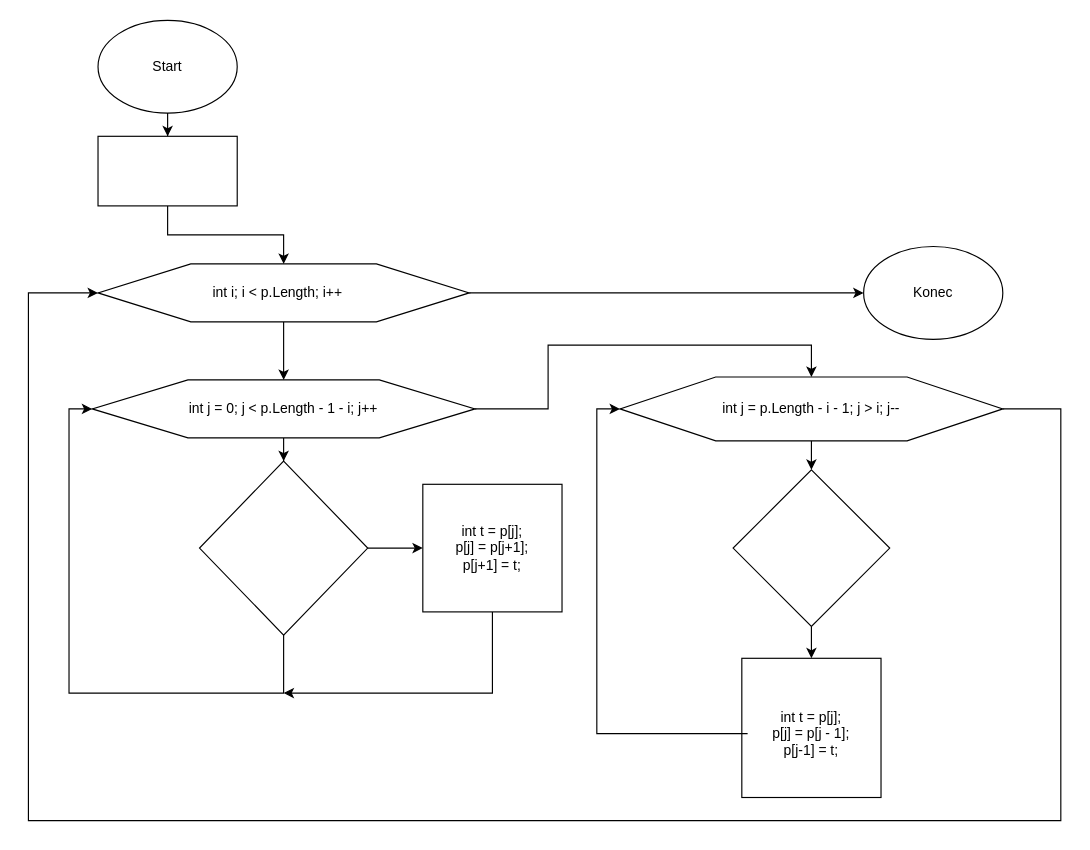
Image size: 1090x850. Some labels were removed from this diagram. The centre of each missing label's shape, as x and y in pixels:
"int[] p = {3,2,8,1}" belongs at (167,170).
"p[j] < p[j - 1]" belongs at (811,547).
"p[j] > p [j+1]" belongs at (283,547).
